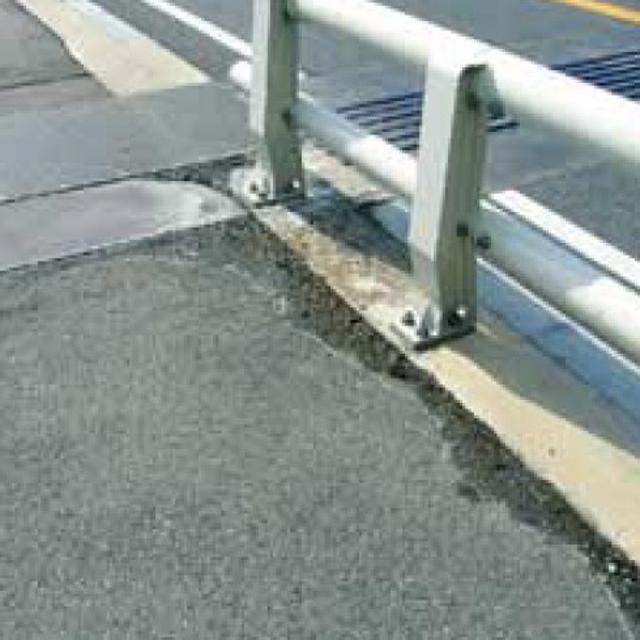leakage: (204, 189, 523, 510)
